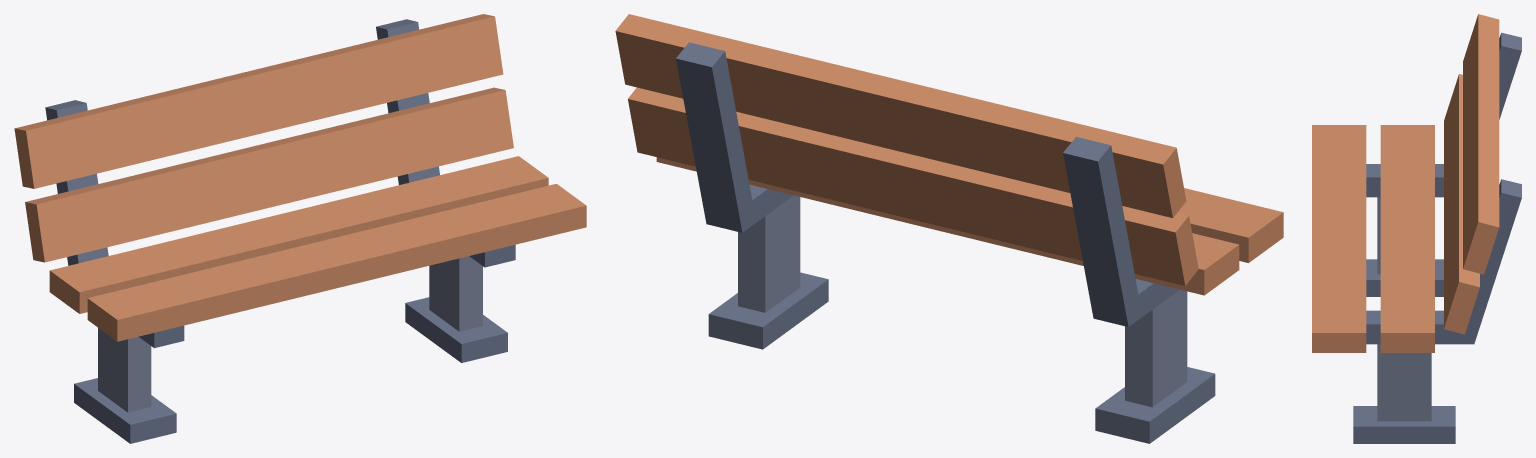
Rendered from Lawka.fbx.
3 views of the same model, side by side, from view 1: azimuth 30°, elevation 25°; view 2: azimuth 150°, elevation 25°; view 3: azimuth 270°, elevation 25° (orthographic). The views are drawn at different scales.
Visible parts, largest first — view 1: Lavka, Lavka Root.002, Lavka Root.001, Lavka Root; view 2: Lavka, Lavka Root.002, Lavka Root; view 3: Lavka, Lavka Root.002, Lavka Root.001, Lavka Root.
Part boxes in pixels (x1,y1,x2,y2): Lavka: [14, 14, 586, 443]; Lavka Root.002: [16, 14, 502, 187]; Lavka Root.001: [207, 184, 586, 310]; Lavka Root: [98, 263, 482, 412]; Lavka: [615, 14, 1283, 443]; Lavka Root.002: [616, 14, 1174, 217]; Lavka Root: [738, 234, 1187, 406]; Lavka: [1312, 14, 1521, 443]; Lavka Root.002: [1463, 14, 1499, 266]; Lavka Root.001: [1312, 178, 1366, 332]; Lavka Root: [1377, 232, 1431, 421].
Bounding box in the file's own units: 1.97 × 1.09 × 0.8414.
1 material, 1 textured.
